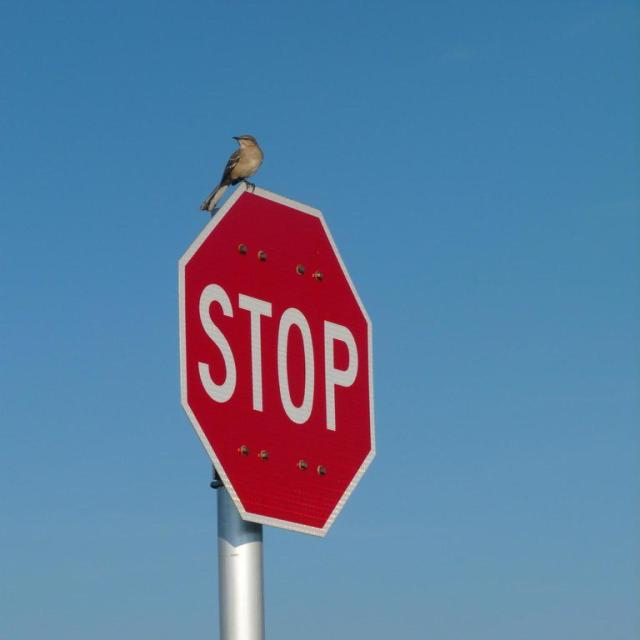Stop-sign: (178, 181, 377, 538)
